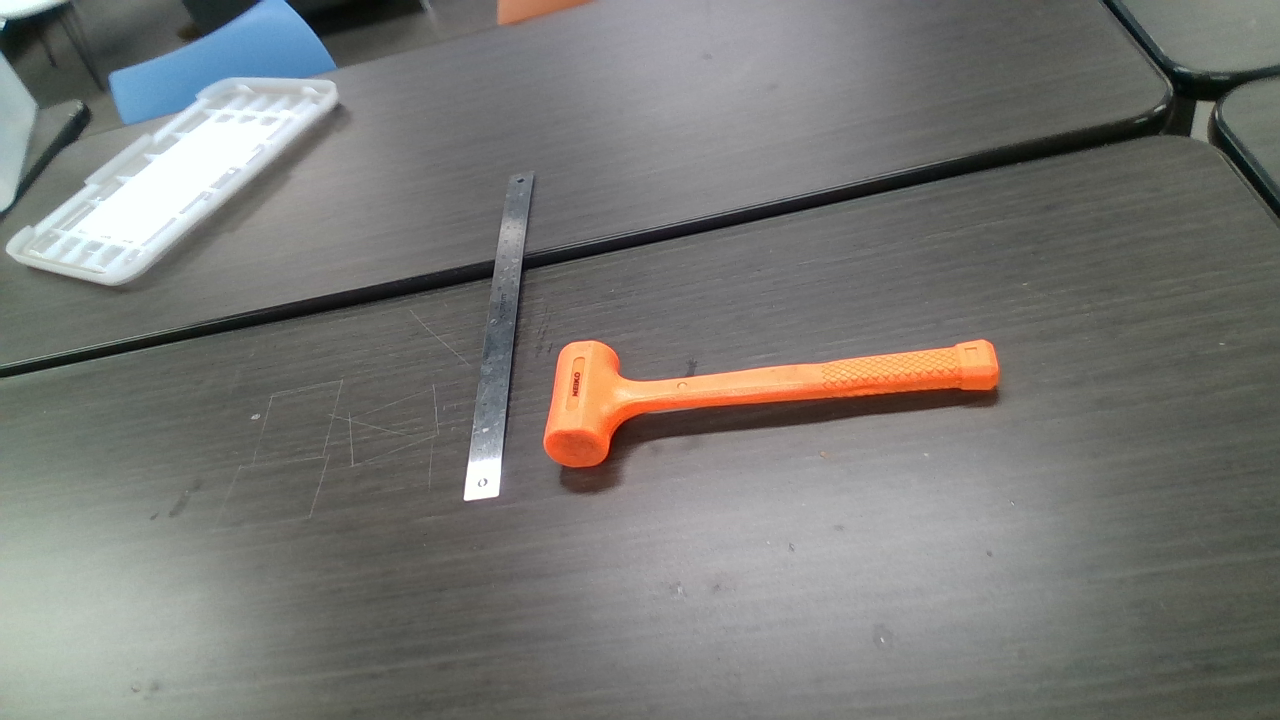Orange Hammer: (546, 338, 998, 467)
